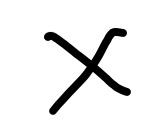mult: (41, 29, 134, 114)
